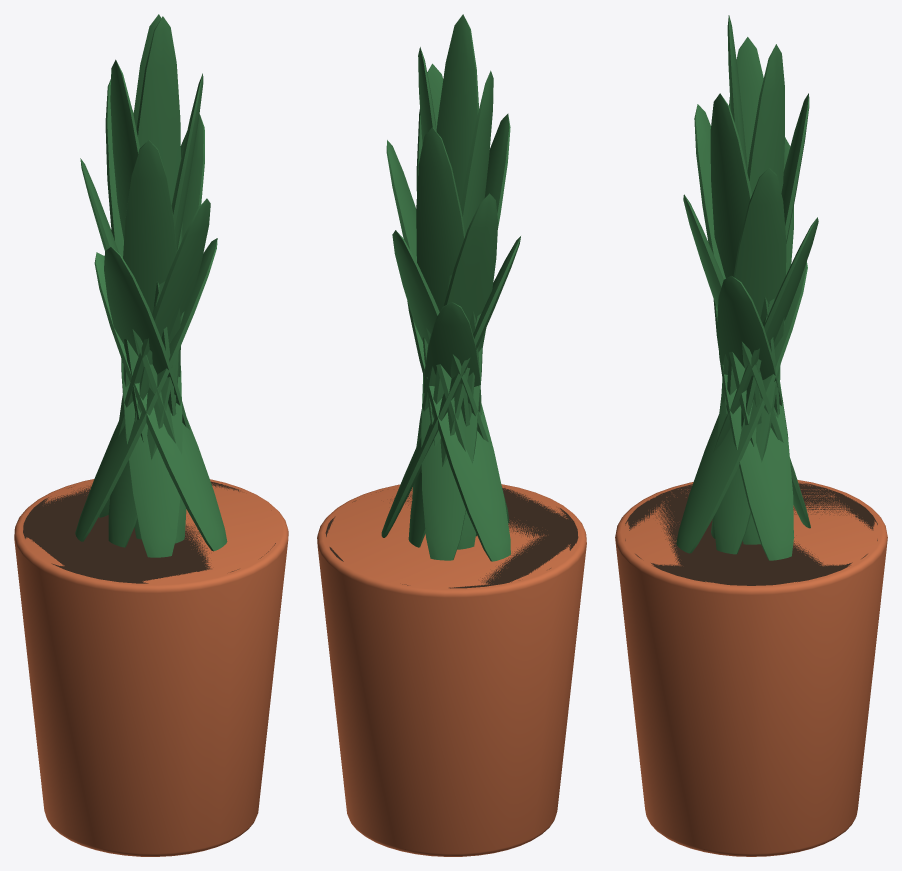
Rendered from plant.glb.
The picture shows the model from 3 angles, left to right: view 1: azimuth 30°, elevation 25°; view 2: azimuth 150°, elevation 25°; view 3: azimuth 270°, elevation 25°; orthographic projection.
Parts seen in each view (by area): view 1: plant; view 2: plant; view 3: plant.
Boxes of the visible parts, x1=… form: plant: x1=14, y1=14, x2=288, y2=856; plant: x1=317, y1=14, x2=586, y2=856; plant: x1=615, y1=15, x2=887, y2=856.
Size of the model in its own units: 0.4381 by 1.42 by 0.4381.
